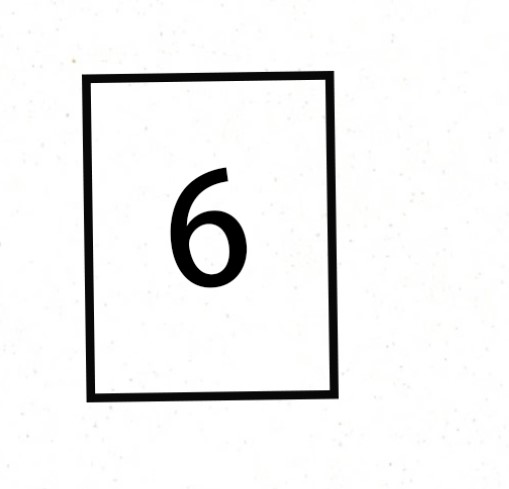six: (144, 149, 281, 312)
